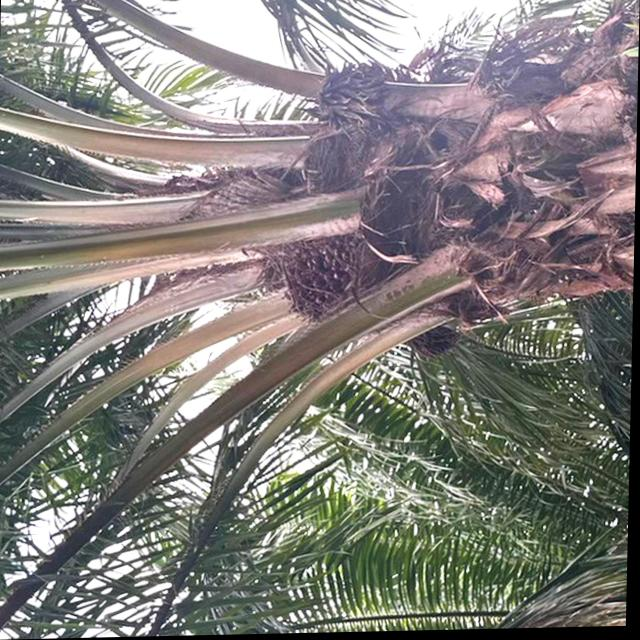ripe: (265, 237, 364, 337)
